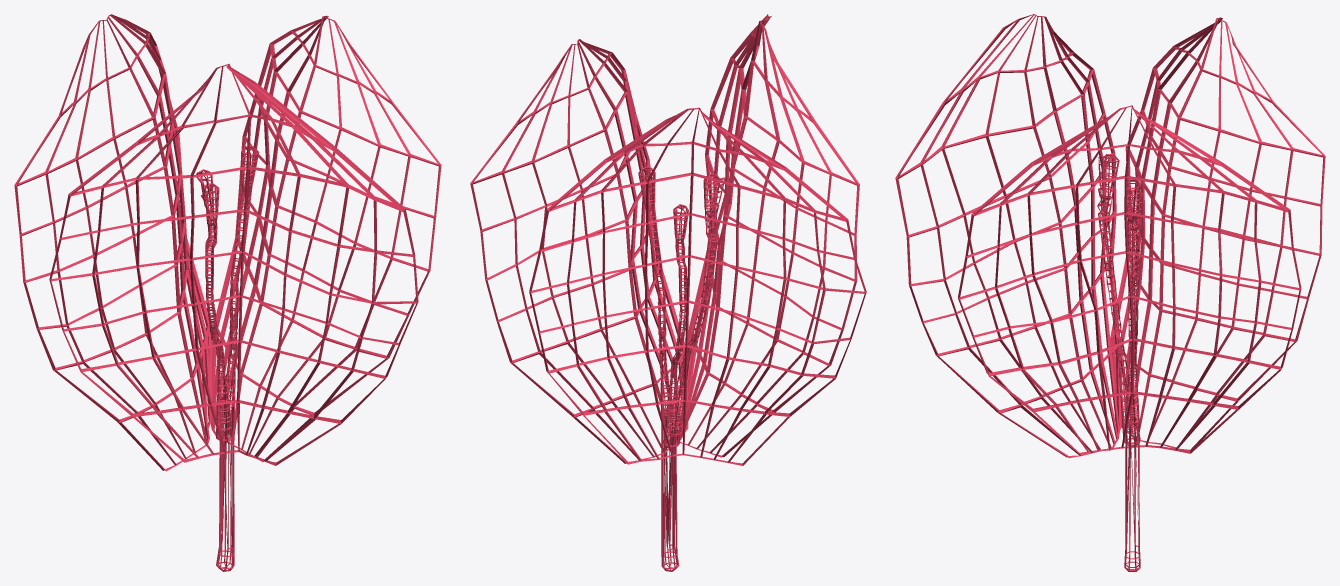
Rendered from bouganville.glb.
3 renders of one model, left to right at view 1: azimuth 30°, elevation 25°; view 2: azimuth 150°, elevation 25°; view 3: azimuth 270°, elevation 25°, orthographic. The views are drawn at different scales.
Parts seen in each view (by area): view 1: bougainville; view 2: bougainville; view 3: bougainville.
Part boxes in pixels (x1,y1,x2,y2): bougainville: (14,14,441,571); bougainville: (470,14,866,571); bougainville: (895,14,1325,571).
Size of the model in its own units: 1.89 by 2.96 by 2.16.
